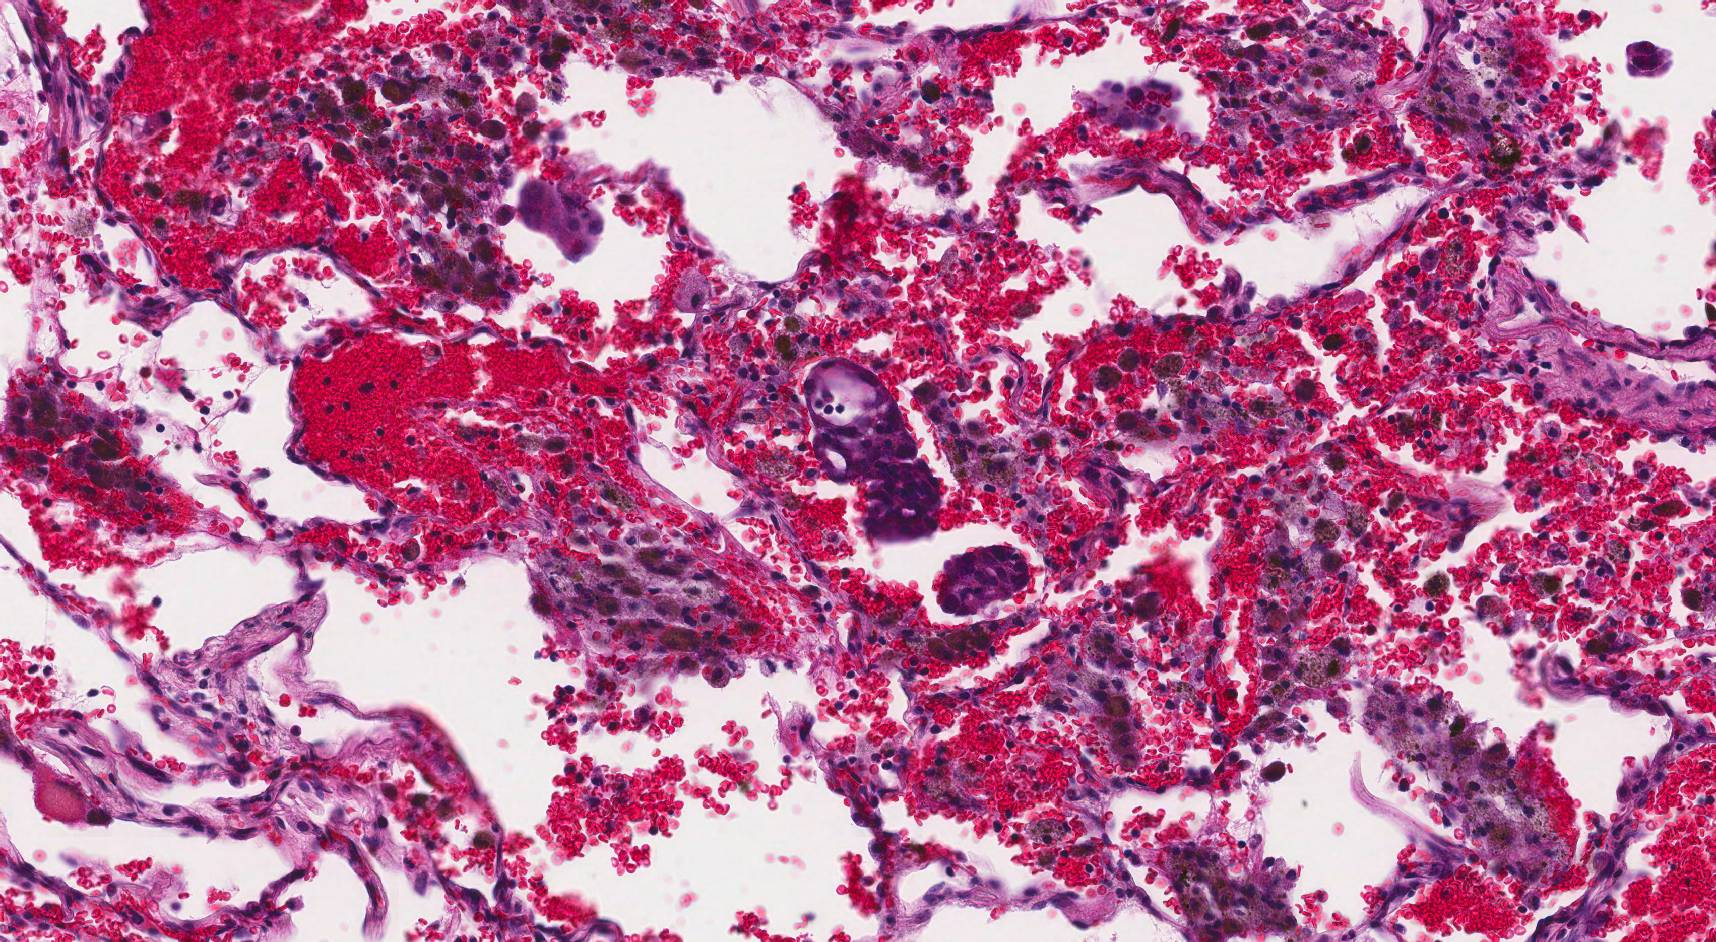stas: (806, 355, 942, 547), (934, 544, 1031, 614)
